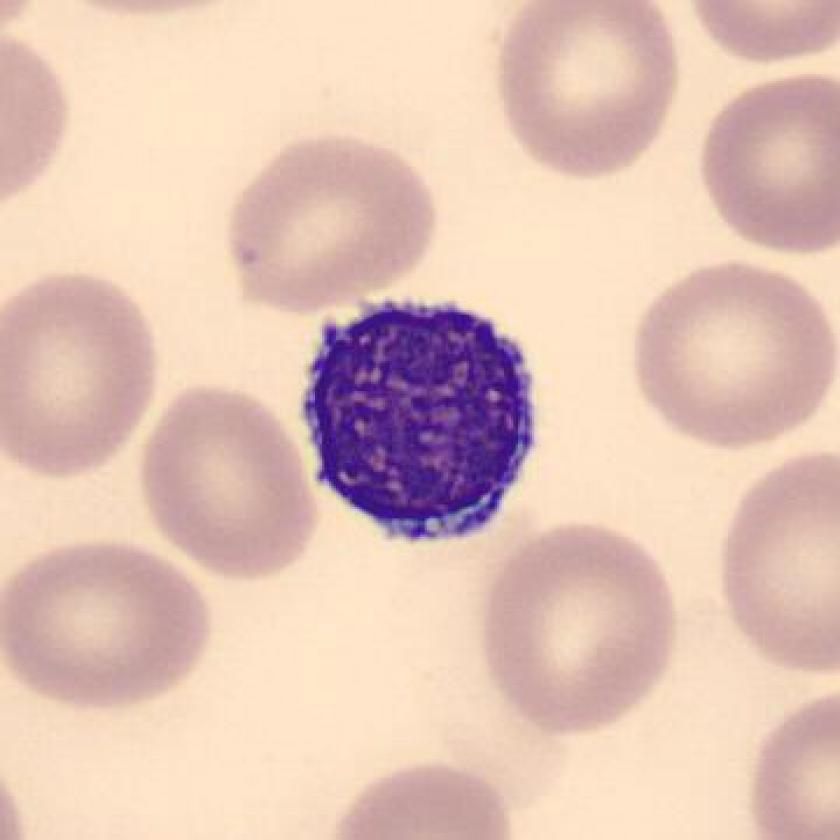lymphocyte: (286, 281, 547, 566)
